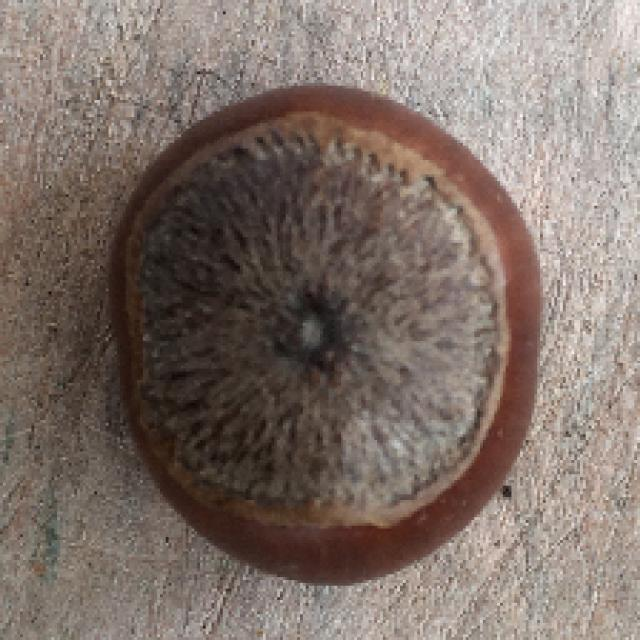qualityHazelnut: (103, 79, 549, 582)
